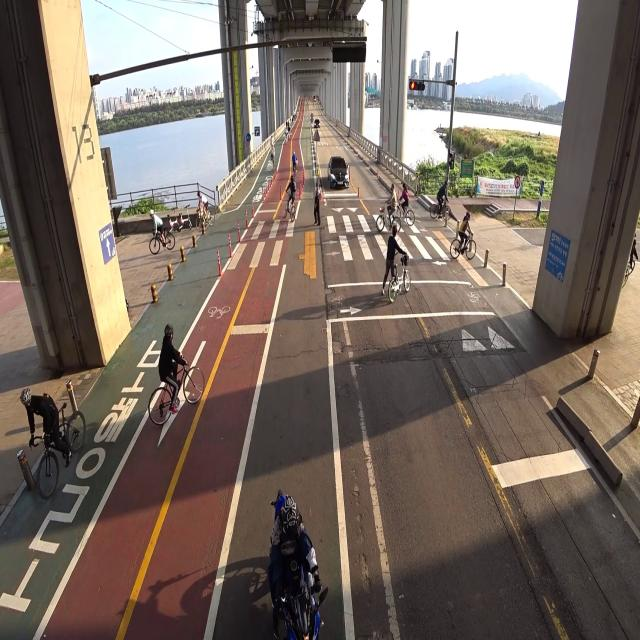Car: (325, 150, 353, 193), (313, 116, 322, 129)
Motorcycle: (257, 468, 328, 640)
